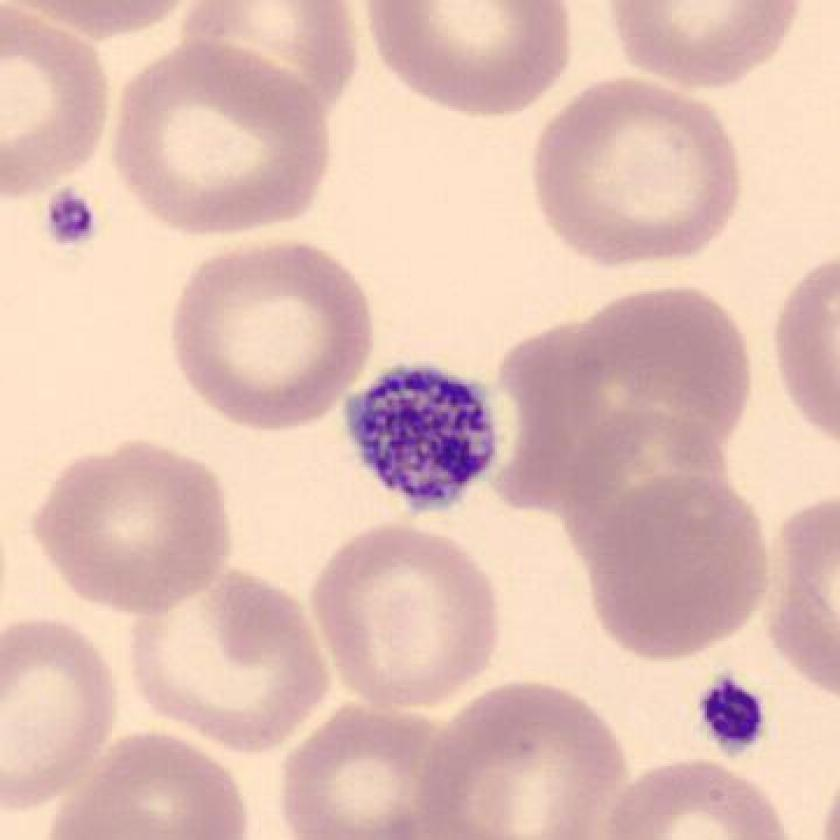platelets: (330, 355, 517, 524), (687, 658, 783, 774), (41, 179, 108, 267)
